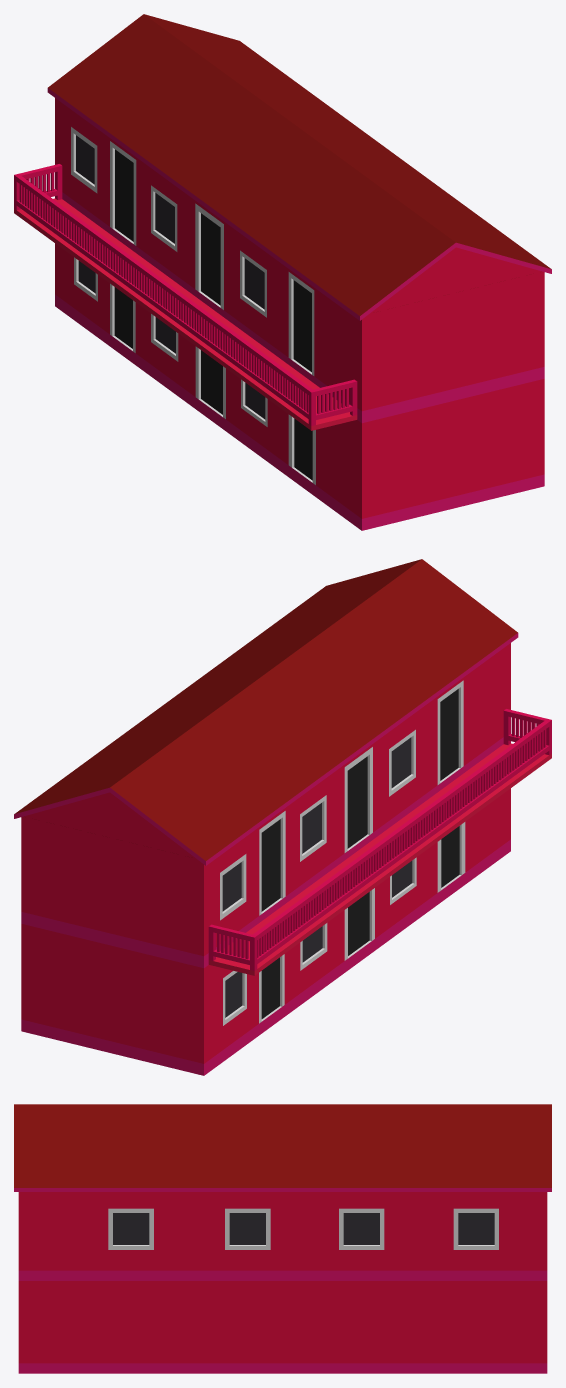
Rendered from mabati apartment 2.fbx.
3 views of the same model, one above another, from view 1: azimuth 30°, elevation 25°; view 2: azimuth 150°, elevation 25°; view 3: azimuth 270°, elevation 25° (orthographic). The views are drawn at different scales.
Visible parts, largest first — view 1: building_003; view 2: building_003; view 3: building_003.
Part boxes in pixels (x1,y1,x2,y2): building_003: (14, 14, 551, 530); building_003: (14, 559, 551, 1075); building_003: (14, 1104, 551, 1373).
Bounding box in the file's own units: 510 × 560 × 1183.
